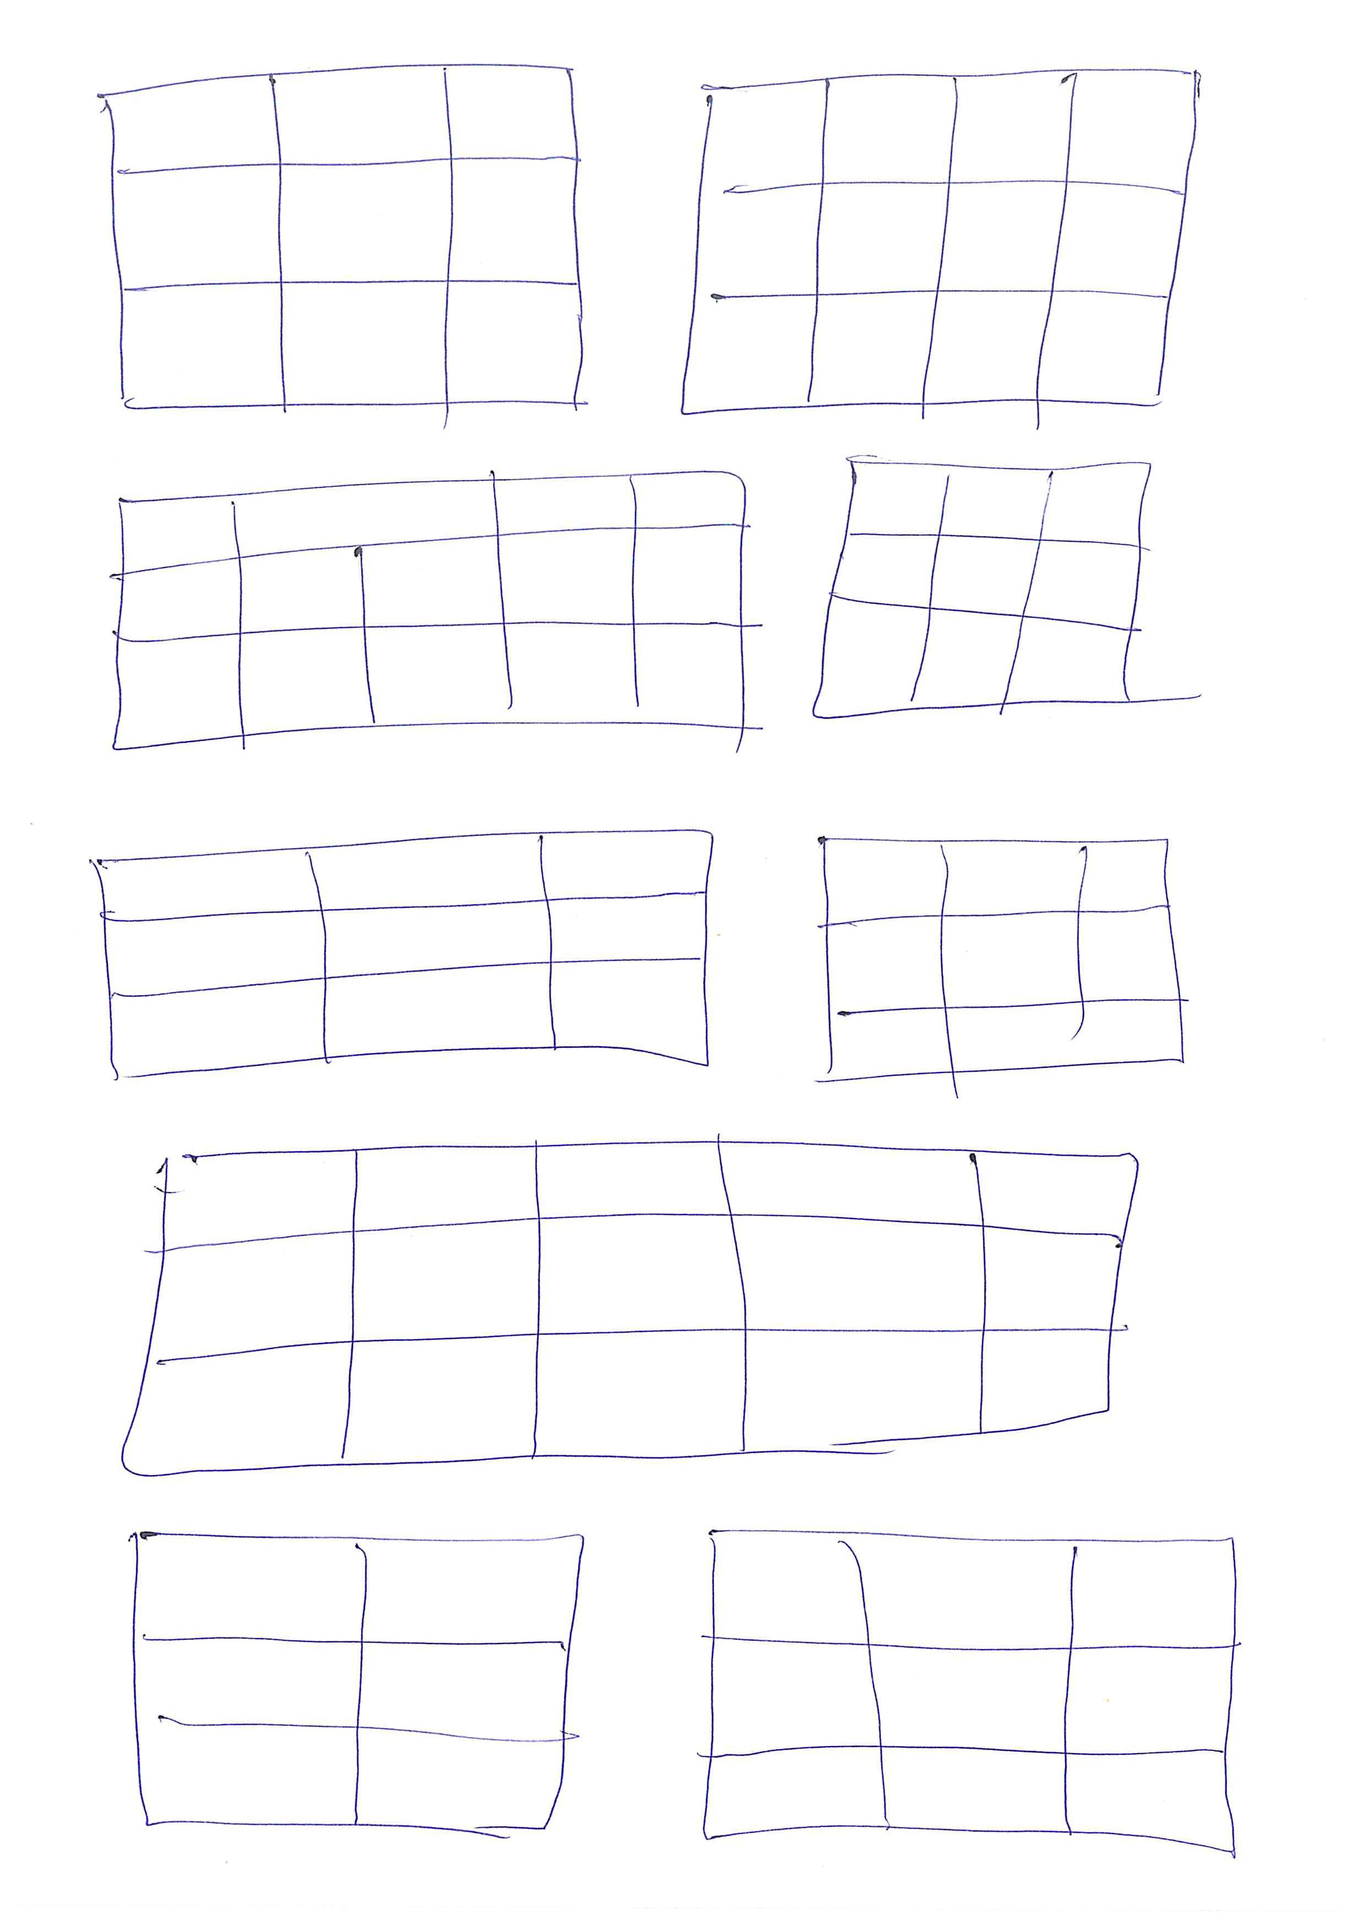Table: (117, 1136, 1141, 1479), (106, 466, 750, 754), (677, 67, 1203, 417), (699, 1527, 1242, 1864), (95, 59, 588, 415), (87, 824, 716, 1084), (126, 1526, 588, 1836), (816, 829, 1187, 1090), (809, 452, 1158, 722)
